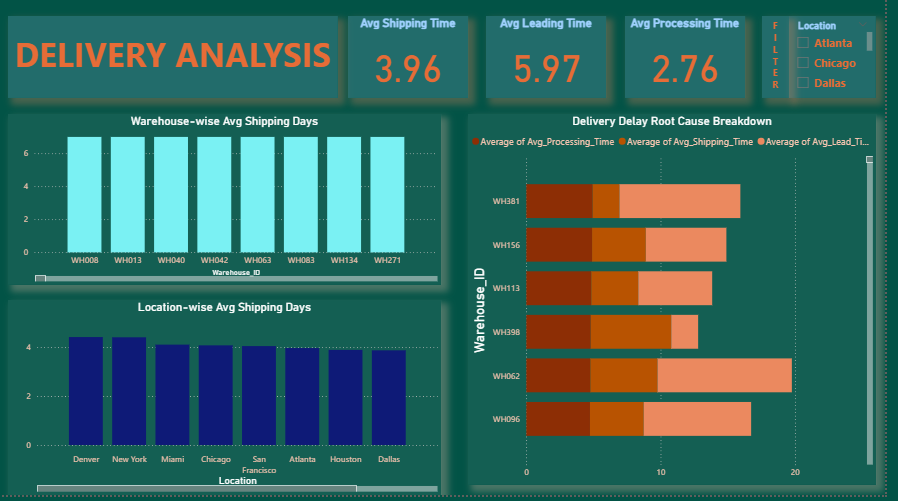

The page's visual inventory and layout, read from the dashboard file:
{"tool":"powerbi","page":{"name":" Page 2","canvas":[1280,720],"ordinal":1},"visuals":[{"type":"clusteredColumnChart","title":"Warehouse-wise Avg Shipping Days","fields":{"Category":["supply_chain_db delivery_performance.Warehouse_ID"],"Y":["Avg(supply_chain_db delivery_performance.Avg_Shipping_Time)"]},"box":[15.8,171.4,623.5,246.2],"z":0},{"type":"card","title":"Avg Shipping Time","fields":{"Values":["Avg(supply_chain_db delivery_performance.Avg_Shipping_Time)"]},"box":[505.4,30.2,172.8,118.1],"z":1000},{"type":"card","title":"Avg Leading Time","fields":{"Values":["Avg(supply_chain_db delivery_performance.Avg_Lead_Time)"]},"box":[704.2,30.2,172.8,118.1],"z":2000},{"type":"card","title":"Avg Processing Time","fields":{"Values":["Avg(supply_chain_db delivery_performance.Avg_Processing_Time)"]},"box":[904.3,30.2,172.8,118.1],"z":3000},{"type":"barChart","title":"Delivery Delay Root Cause Breakdown","fields":{"Category":["supply_chain_db delivery_performance.Warehouse_ID"],"Y":["Avg(supply_chain_db delivery_performance.Avg_Processing_Time)","Avg(supply_chain_db delivery_performance.Avg_Shipping_Time)","Avg(supply_chain_db delivery_performance.Avg_Lead_Time)"]},"box":[678.2,171.4,587.5,534.2],"z":4000},{"type":"clusteredColumnChart","title":"Location-wise Avg Shipping Days","fields":{"Y":["Avg(supply_chain_db delivery_performance.Avg_Shipping_Time)"],"Category":["supply_chain_db delivery_performance.Location"]},"box":[15.8,439.2,623.5,280.8],"z":5000},{"type":"slicer","fields":{"Values":["supply_chain_db delivery_performance.Location"]},"box":[1140.5,30.2,125.3,118.1],"z":6000},{"type":"textbox","box":[1101.6,30.2,38.9,118.1],"z":7000},{"type":"textbox","box":[15.8,30.2,475.2,118.1],"z":8000}]}

Visuals, with their boxes in screenshot pixels (x1, y1, x2, y2), scaled from the page's 1280x720 canvas onto the 898x501 screenshot:
"Warehouse-wise Avg Shipping Days" clusteredColumnChart: crop(11, 119, 449, 291)
"Avg Shipping Time" card: crop(355, 21, 476, 103)
"Avg Leading Time" card: crop(494, 21, 615, 103)
"Avg Processing Time" card: crop(634, 21, 756, 103)
"Delivery Delay Root Cause Breakdown" barChart: crop(476, 119, 888, 491)
"Location-wise Avg Shipping Days" clusteredColumnChart: crop(11, 306, 449, 500)
slicer - supply_chain_db delivery_performance.Location: crop(800, 21, 888, 103)
textbox: crop(773, 21, 800, 103)
textbox: crop(11, 21, 344, 103)
